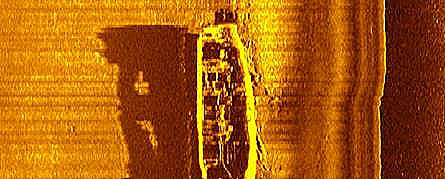ship: (196, 21, 261, 179)
